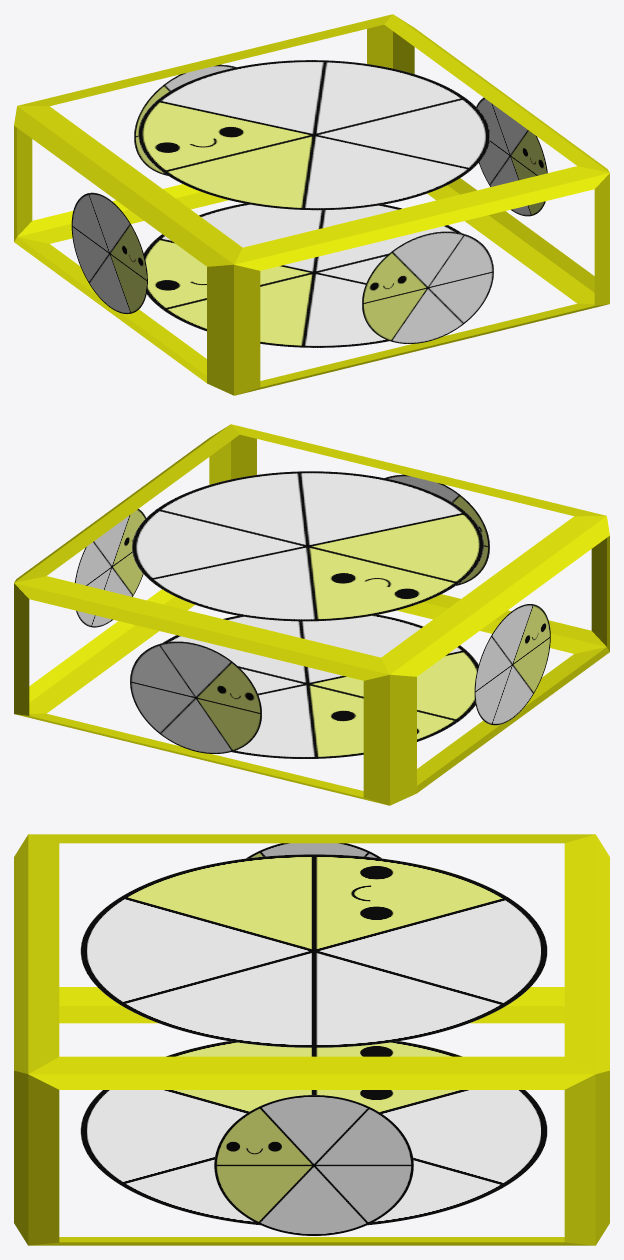
The model's file is Fracciones dos  sextos.fbx.
3 renders of one model, top to bottom at view 1: azimuth 30°, elevation 25°; view 2: azimuth 150°, elevation 25°; view 3: azimuth 270°, elevation 25°, orthographic. The views are drawn at different scales.
Parts seen in each view (by area): view 1: 2/6; view 2: 2/6; view 3: 2/6.
Part boxes in pixels (left/top/right/bottom): 2/6: left=14, top=14, right=609, bottom=395; 2/6: left=14, top=424, right=609, bottom=805; 2/6: left=14, top=834, right=609, bottom=1245.
Bounding box in the file's own units: 213 × 69.99 × 210.
2 materials, 1 textured.
